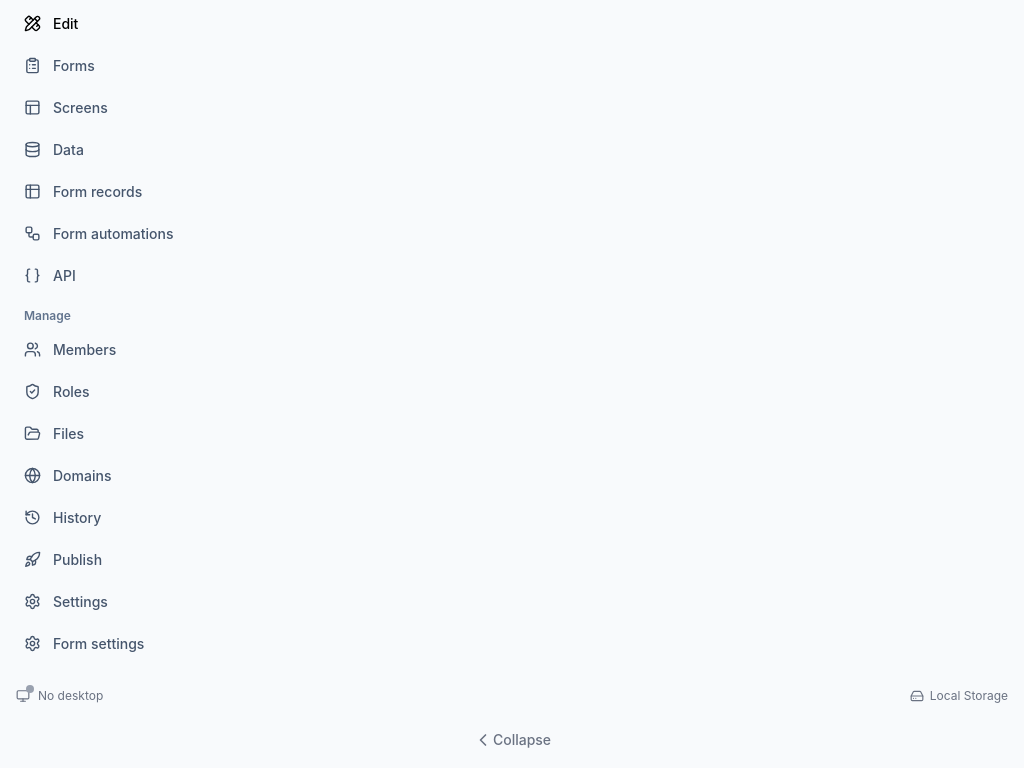
Sidebar (app-first) › retains the installed app tools when leaving a project that has a backend only in its draft
(page scrolled)
Expected: the link with aria-label "API" is shown, [24, 267, 76, 284]
Click the link with aria-label "Form settings": (84, 644) [24, 635, 144, 652]
(page scrolled)
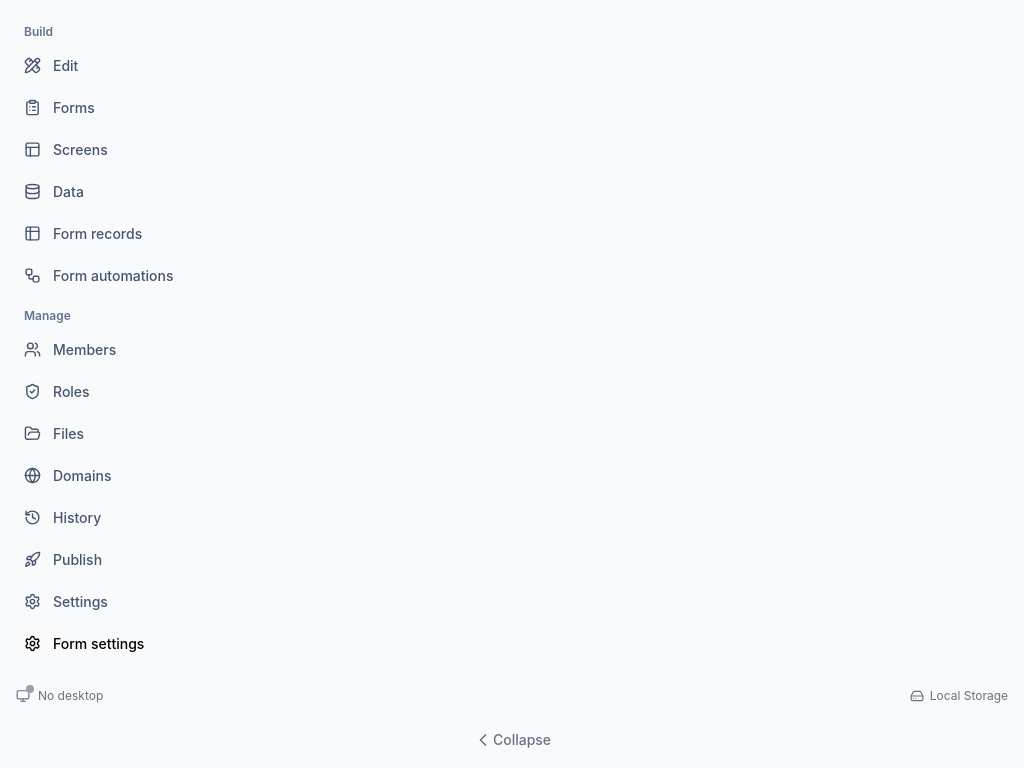
Expected: the link with aria-label "Edit" is shown, [24, 57, 78, 74]
Expected: the link named "API" is gone
